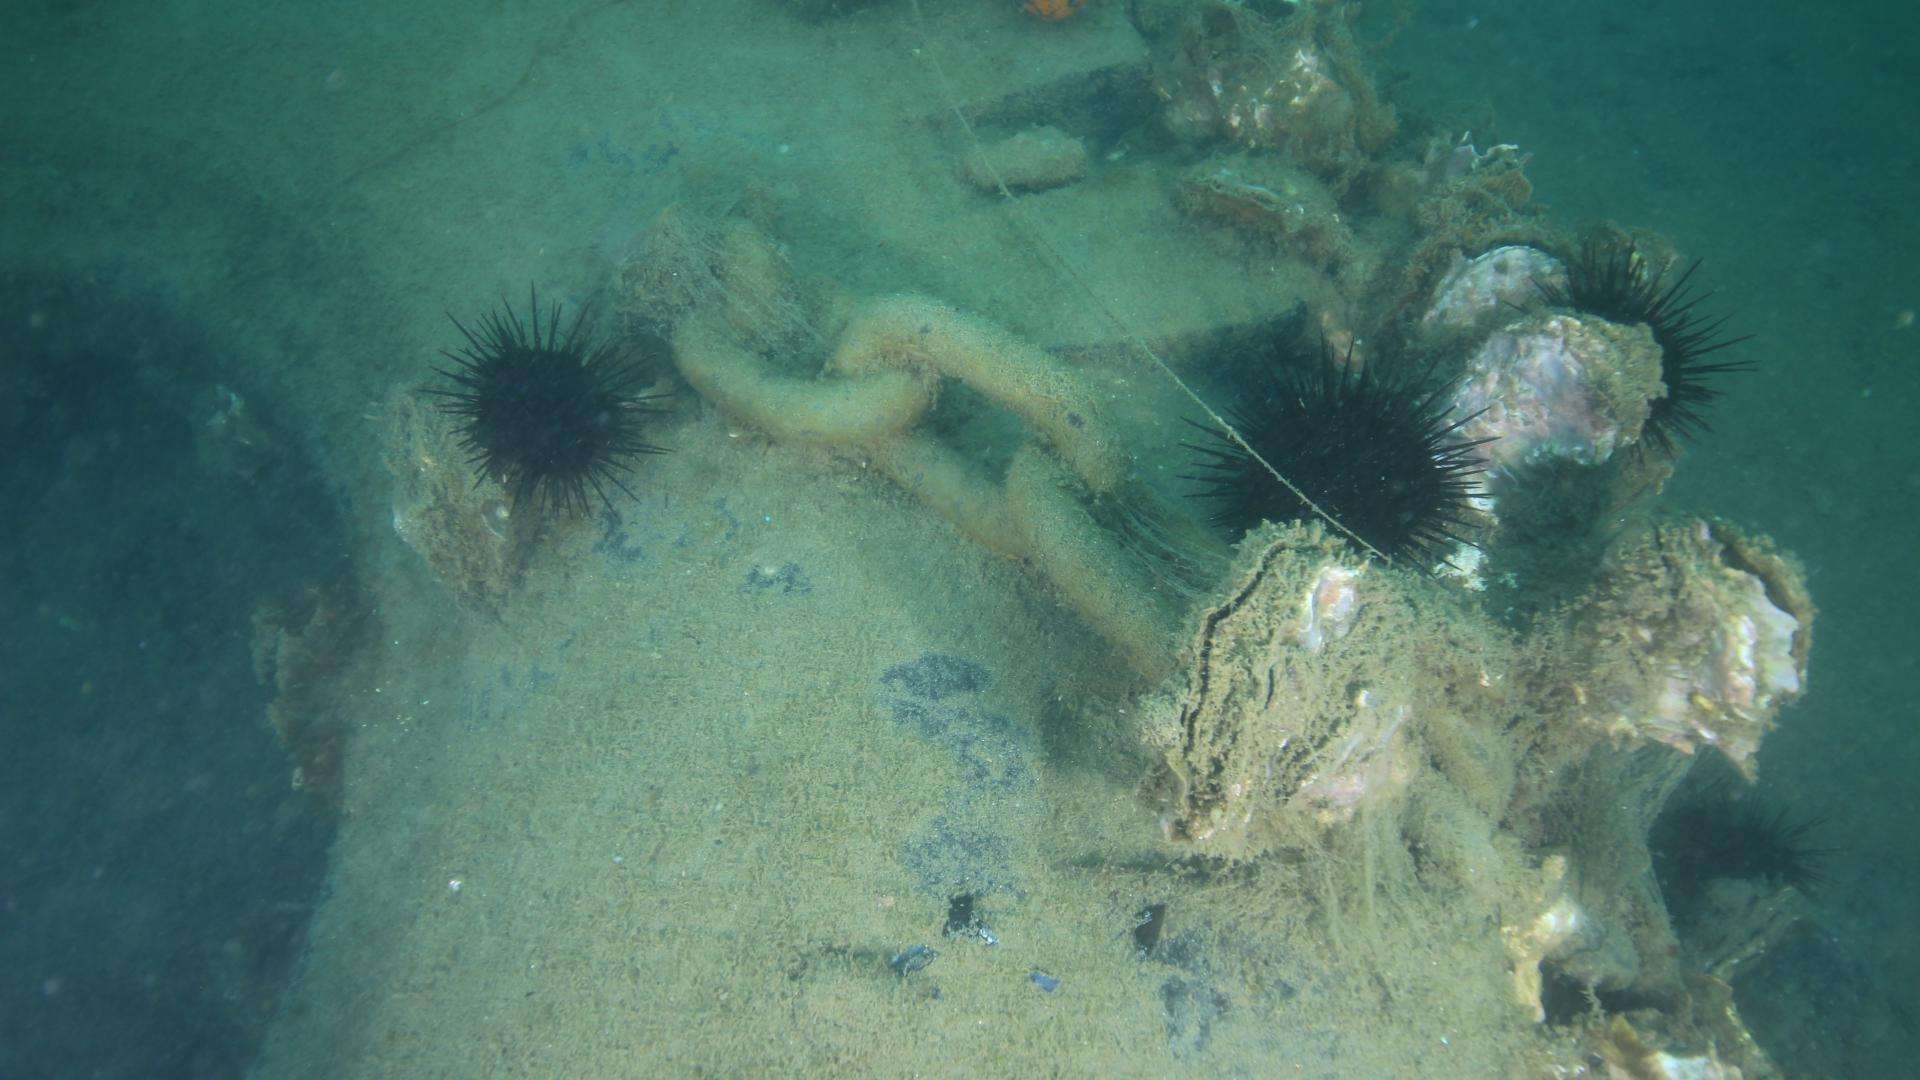tire: (0, 0, 1696, 1080)
